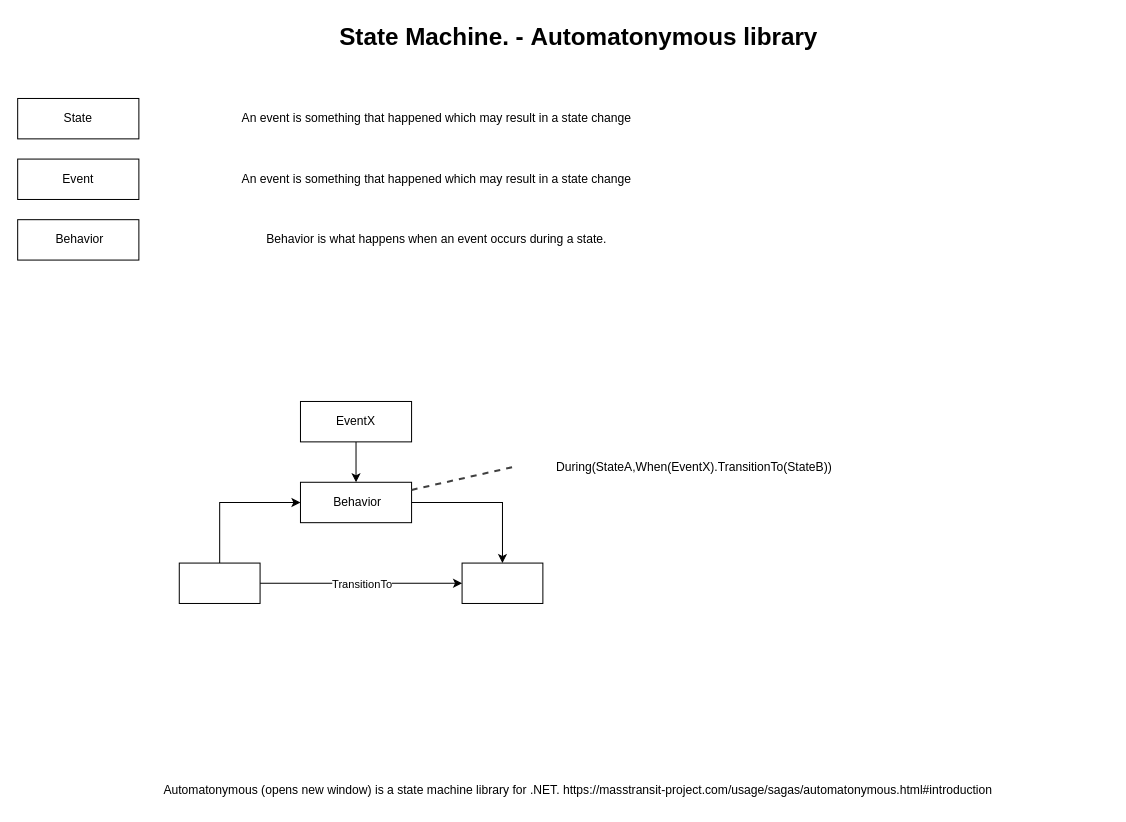
The diagram is 1126 pixels wide and 822 high, and some of its shapes have lost their labels. The shapes that lost their labels are listed below. From the top down, each one's centre as x and y in pixels, then its label:
At (x=219, y=582): "StateA".
At (x=502, y=582): "StateB".
